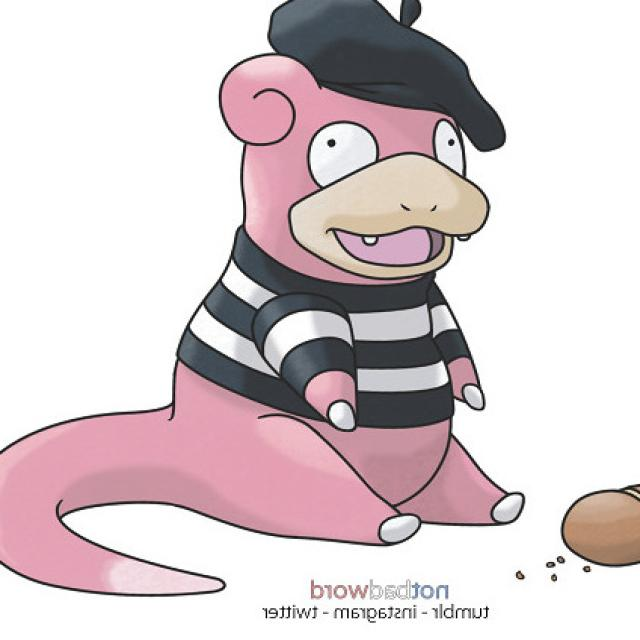Slowpoke: (113, 0, 517, 546)
